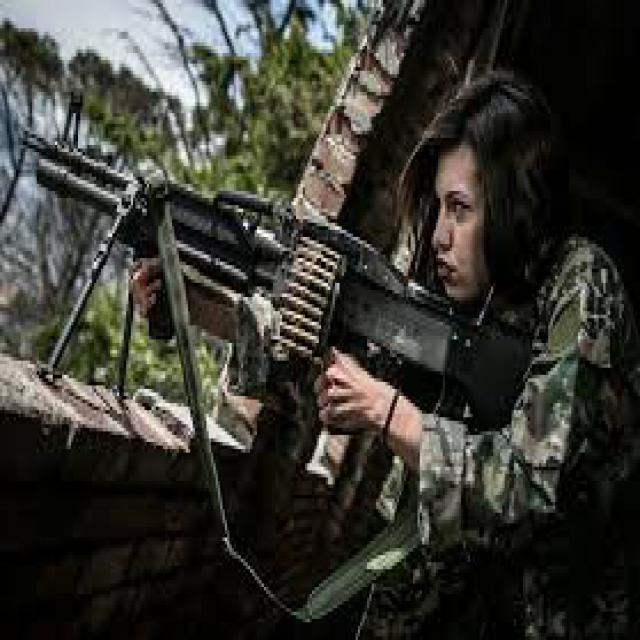long weapon: (12, 112, 441, 399)
